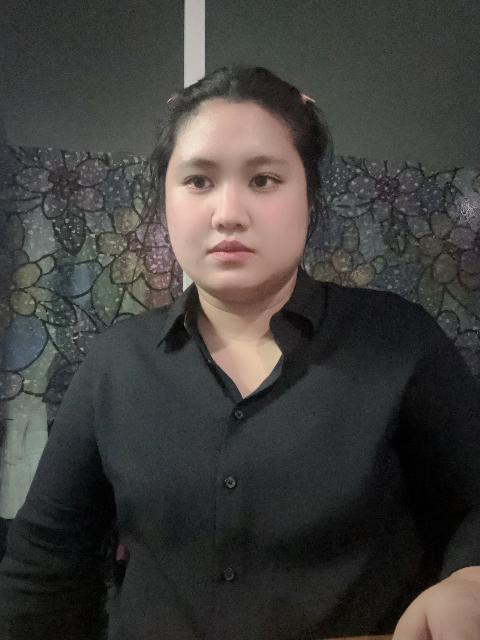fokus: (153, 92, 317, 298)
